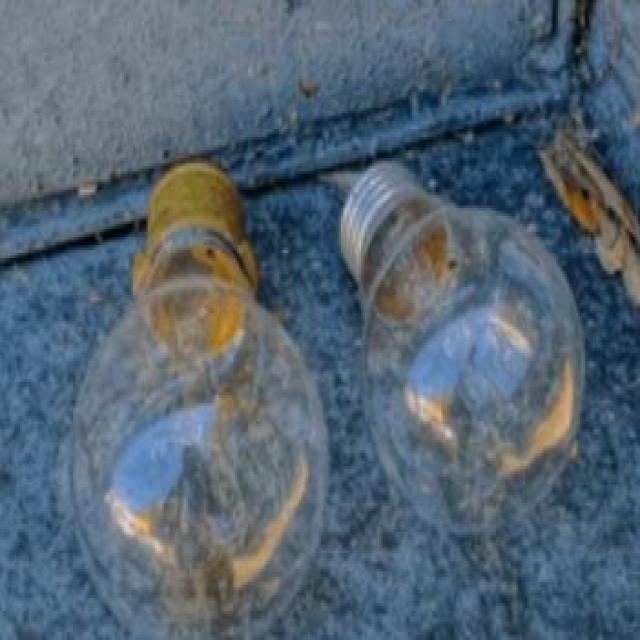electronic: (69, 158, 330, 637), (338, 155, 586, 538)
